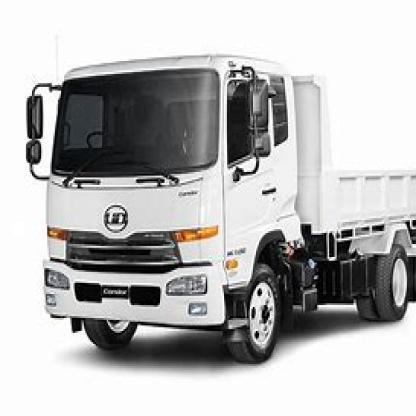dump_truck: (24, 44, 414, 364)
